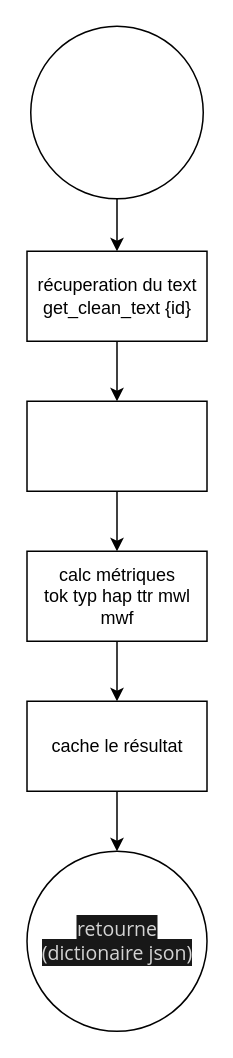
Image size: 233x1058. Some labels were removed from this diagram. Each missing label, with the centre of its shape:
Module lexdiv: (x=116, y=112)
tokenisation par mots word_tokens {texte}: (x=116, y=445)
